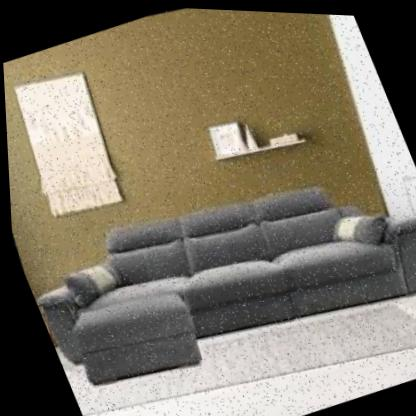Sofa: (17, 132, 416, 416)
